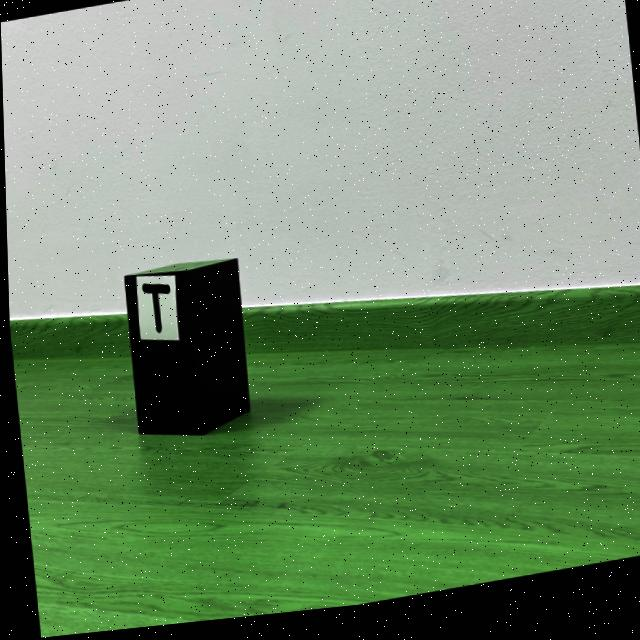T: (140, 286, 168, 335)
